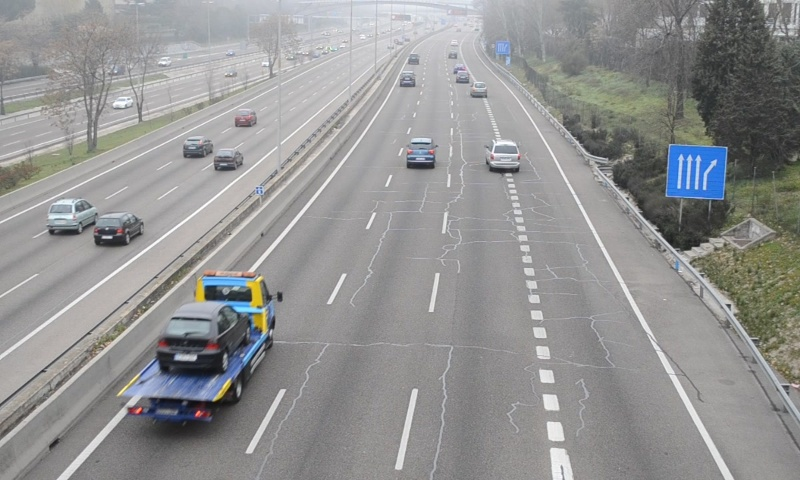car: (486, 138, 521, 170), (406, 137, 435, 166), (469, 80, 488, 98), (400, 70, 416, 86)
small-truck: (116, 270, 276, 419)
